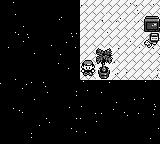leer: (144, 16, 159, 48)
main: (81, 60, 96, 77)
no-caminable: (1, 0, 160, 143), (96, 48, 113, 80)
